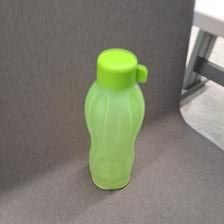bottle: (84, 48, 147, 191)
